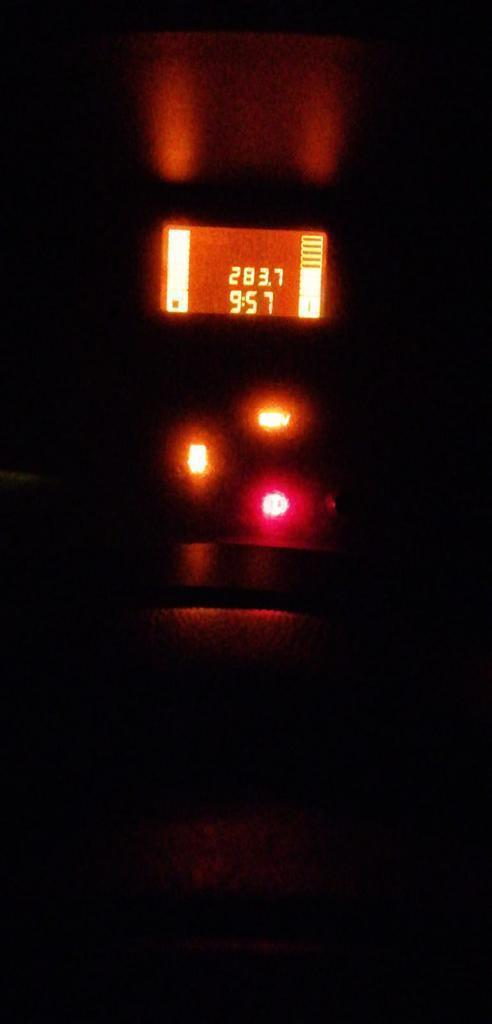,: (268, 281, 272, 286)
2: (227, 265, 241, 285)
3: (257, 266, 268, 286)
5: (245, 289, 257, 314)
7: (261, 289, 274, 314), (272, 266, 284, 286)
8: (242, 265, 255, 286)
9: (227, 288, 241, 314)
X: (241, 295, 245, 307)
odometer: (153, 219, 332, 322)
